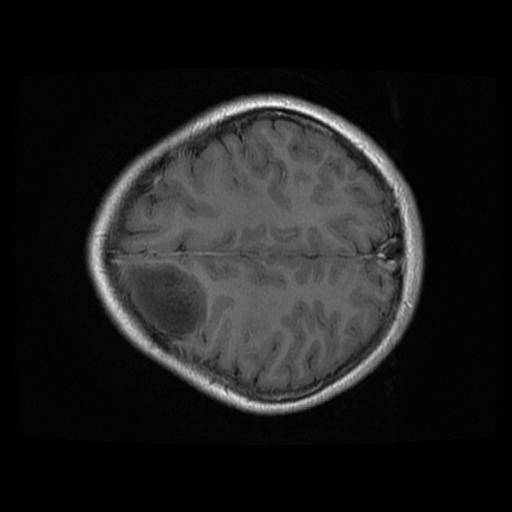glioma: (124, 261, 205, 341)
